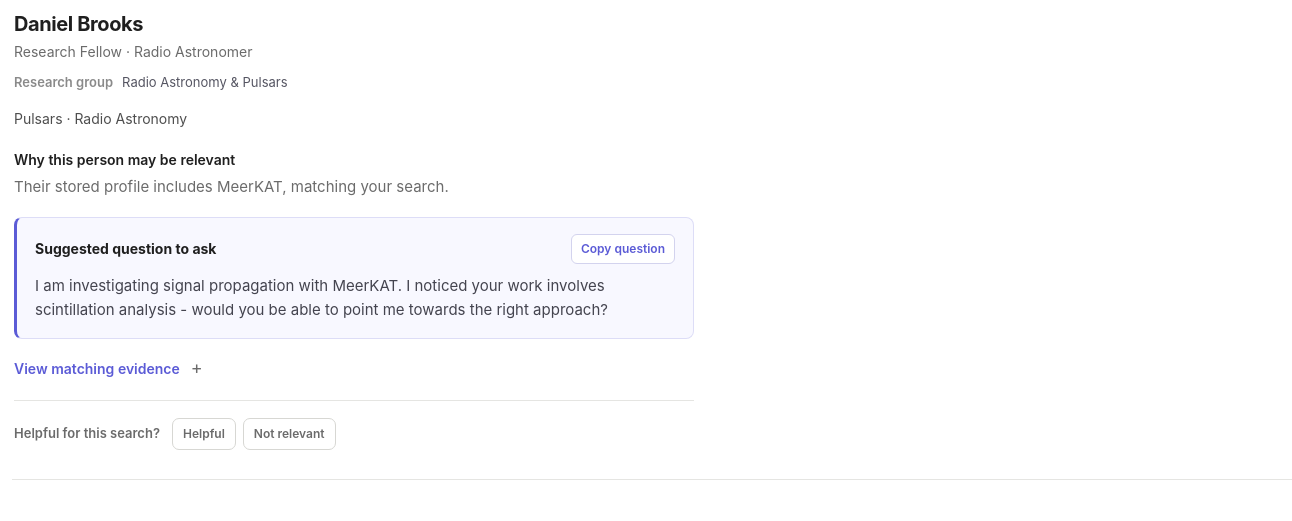
SearchResult evidence disclosure › copies the suggested question and announces success
Click the button with aria-label "Copy suggested question".
click(623, 248)  # box [571,234,675,264]
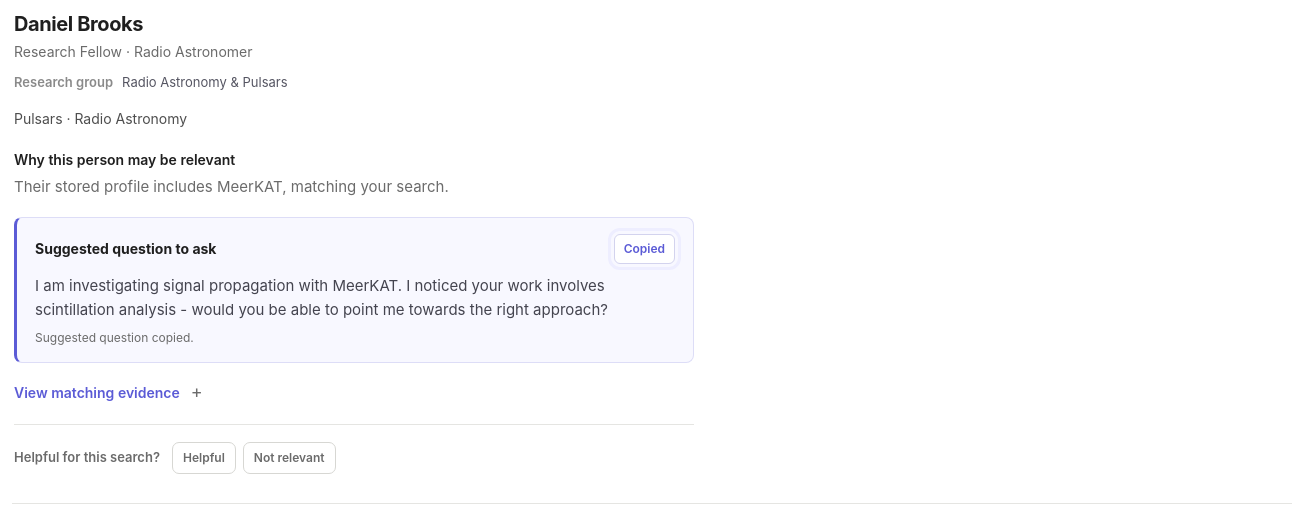
Check: the text "Suggested question copied." is shown, box [35,330,194,344]
Check: the button with aria-label "Suggested question copied" reads "Copied", box [614,234,675,264]
